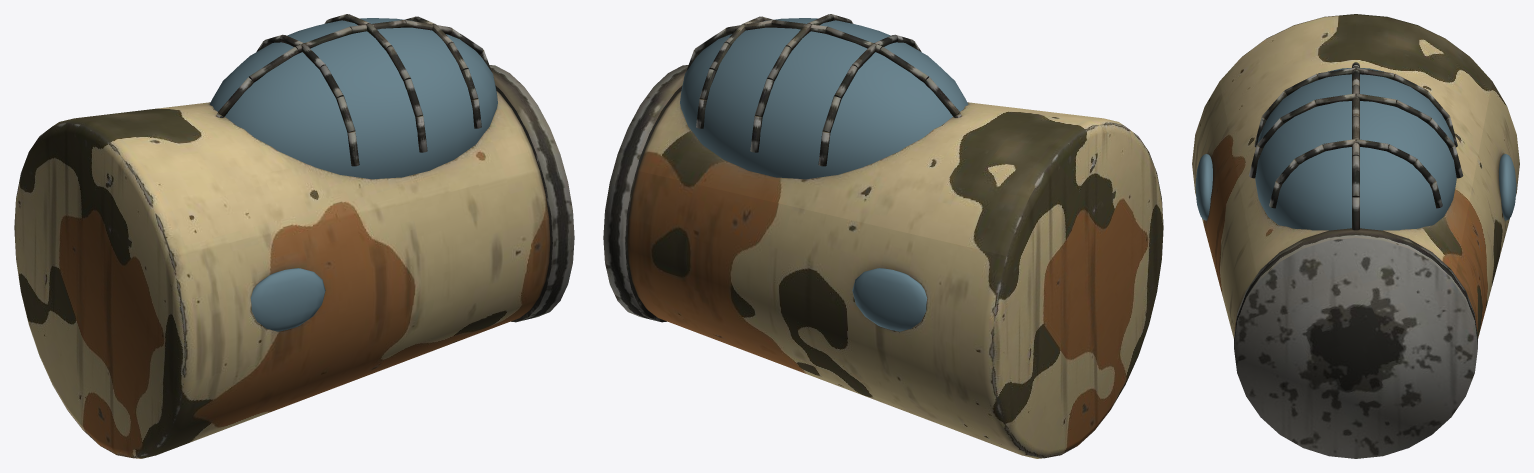
File: turret_kit_tail_cabin.glb
The picture shows the model from 3 angles, left to right: view 1: azimuth 30°, elevation 25°; view 2: azimuth 150°, elevation 25°; view 3: azimuth 270°, elevation 25°; orthographic projection. The views are drawn at different scales.
Visible parts, largest first — view 1: turret_tail_cabin; view 2: turret_tail_cabin; view 3: turret_tail_cabin.
Part boxes in pixels (x1,y1,x2,y2): turret_tail_cabin: (14, 14, 574, 458); turret_tail_cabin: (603, 14, 1163, 458); turret_tail_cabin: (1192, 14, 1519, 458).
Size of the model in its own units: 1.14 by 0.9506 by 0.8335.
Materials: 2 (1 with a texture image).
